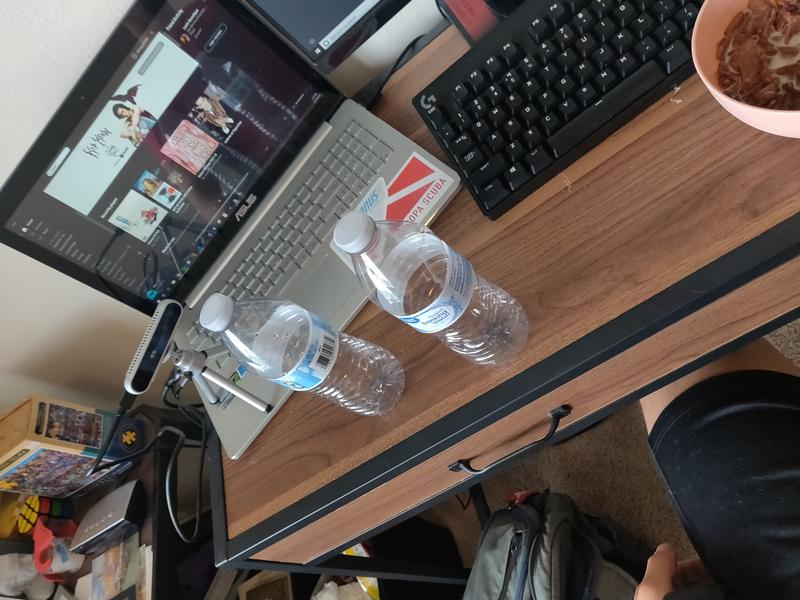bottle: (333, 211, 528, 369), (200, 293, 404, 418)
